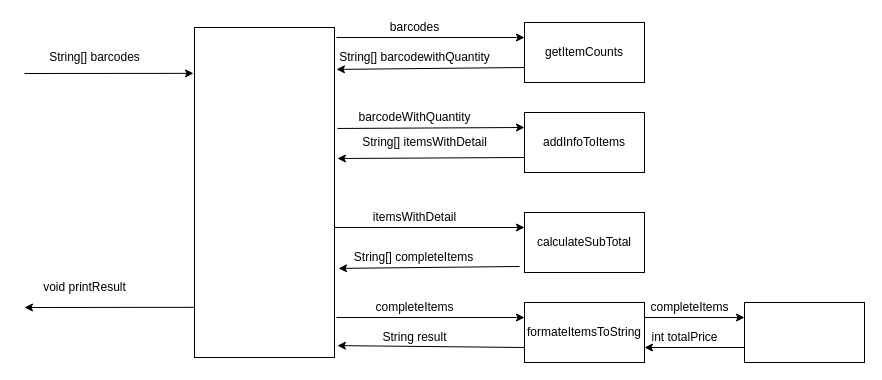
The diagram is 882 pixels wide and 380 high, and some of its shapes have lost their labels. The shapes that lost their labels are listed below. From the top down, each one's box as (x1, y1, x2, y2) in pixels, then its label:
(194, 26, 334, 358): printReceipt
(744, 302, 864, 362): calculateTotal
